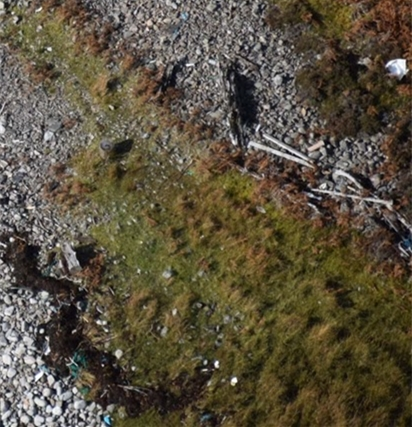straight_bar: (211, 50, 257, 157), (248, 135, 317, 172)
together_barrel: (52, 341, 136, 425)
white_in_green: (75, 123, 136, 179)
